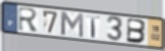3: (106, 15, 124, 43)
7: (42, 10, 59, 35)
B: (126, 18, 148, 45)
M: (59, 10, 85, 39)
R: (17, 6, 40, 33)
T: (85, 14, 102, 39)
